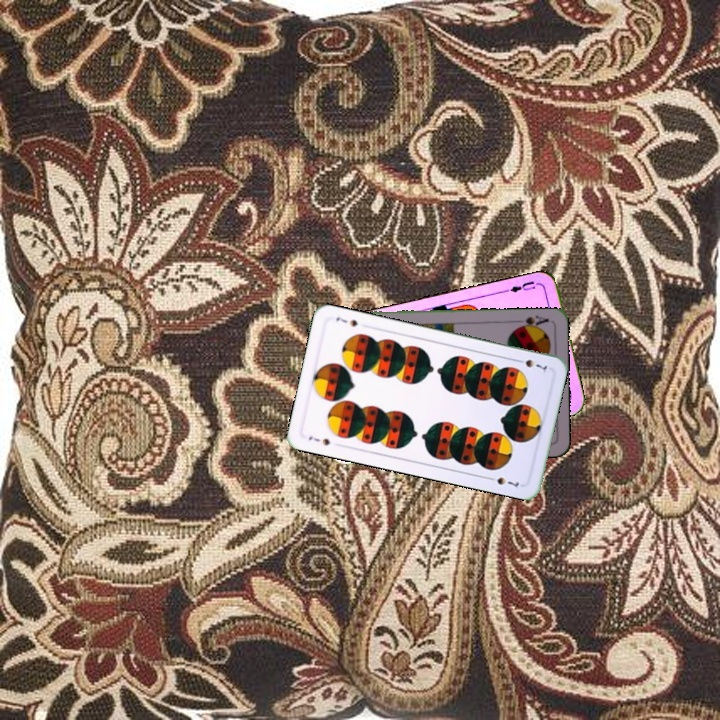EU: (503, 277, 543, 295)
S7: (512, 355, 550, 375), (304, 432, 332, 448)
SA: (511, 312, 551, 332)
